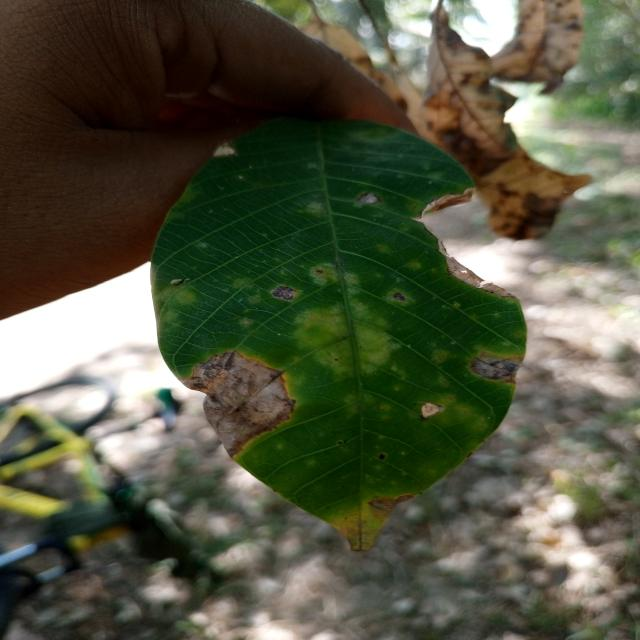Colletotrichum: (378, 453, 386, 460)
Leaf-Blight: (183, 349, 297, 459), (437, 238, 512, 296), (422, 187, 474, 215), (471, 356, 522, 382), (368, 494, 418, 514), (420, 402, 444, 419), (214, 142, 236, 157), (357, 192, 381, 205)
